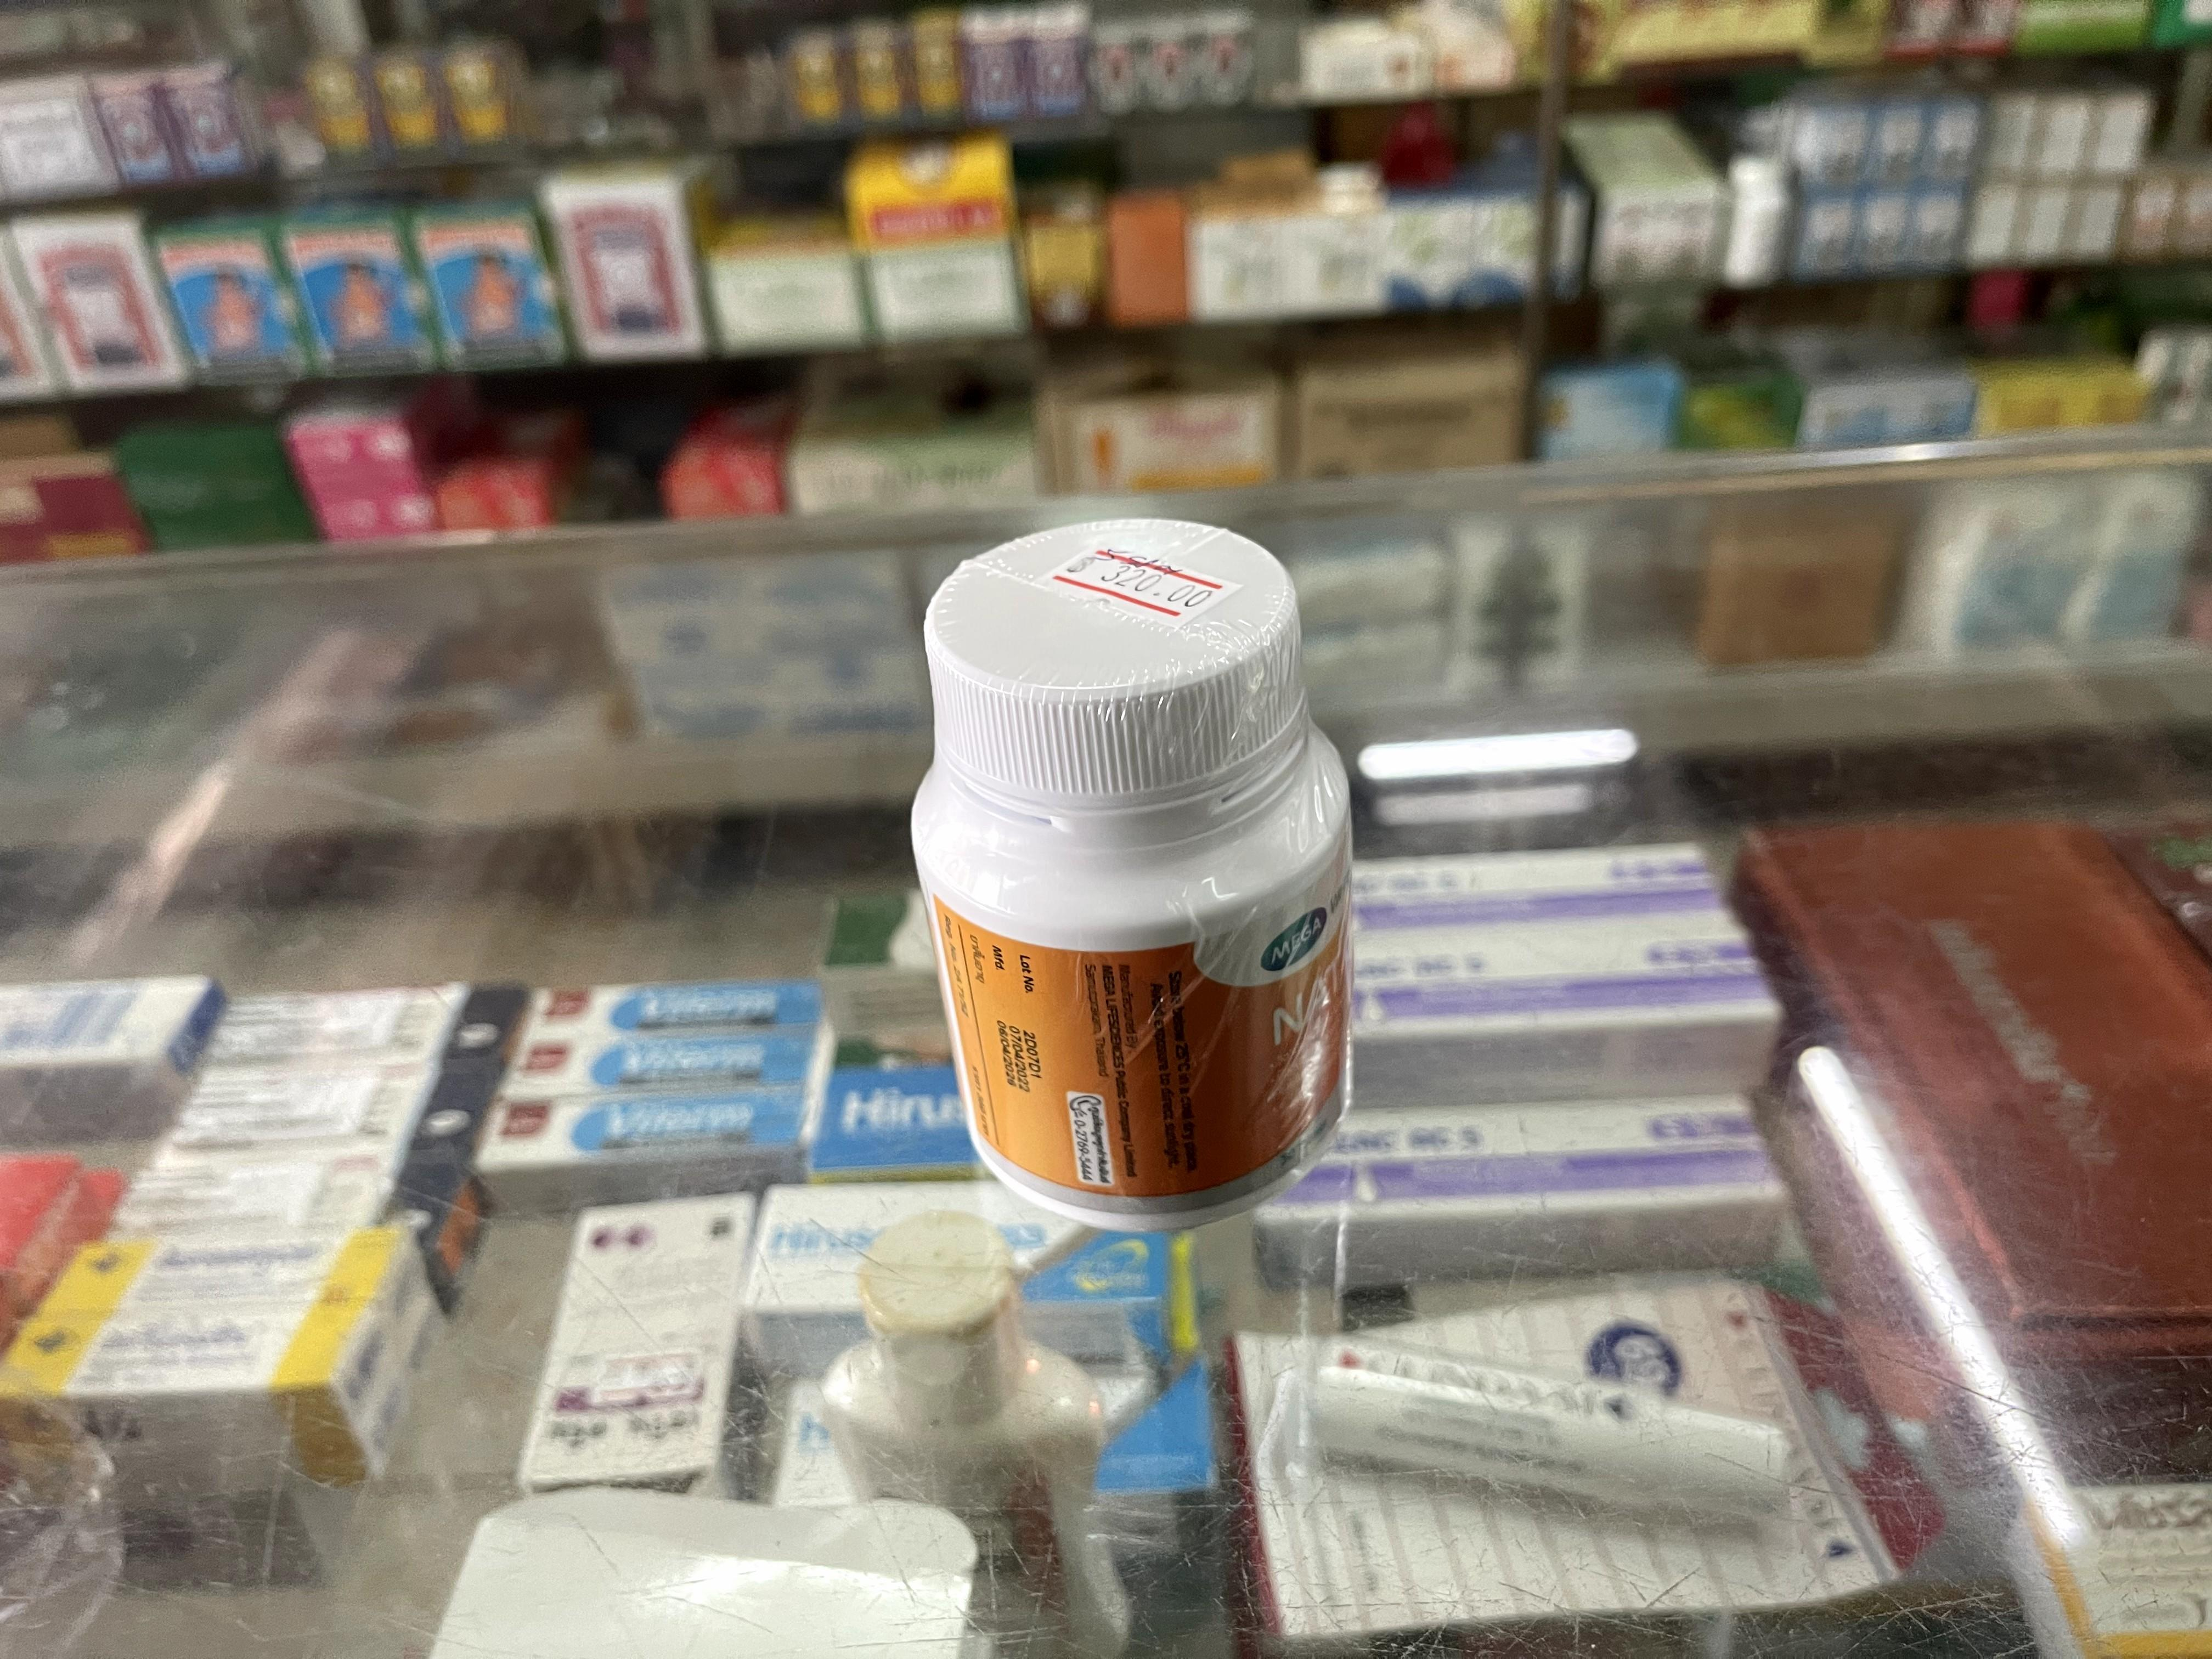NatC: (907, 512, 1355, 1232)
